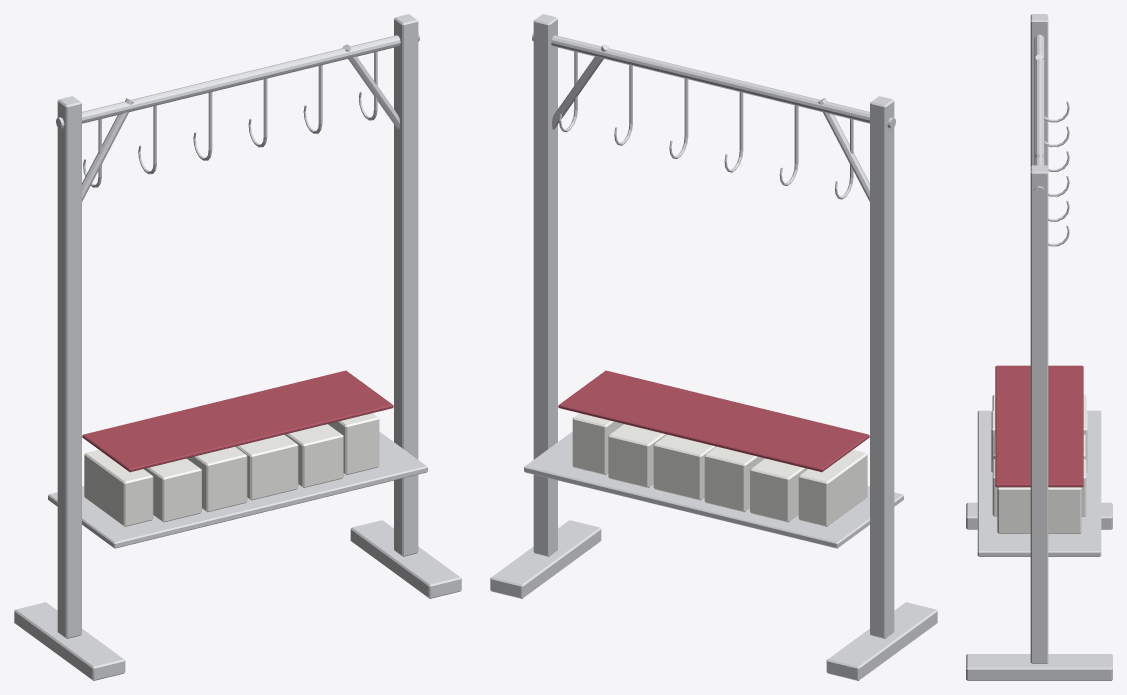
Rendered from butchers-shop-and-deli-counter-hook-rail-frame-71e555e5__34453.glb.
The picture shows the model from 3 angles, left to right: view 1: azimuth 30°, elevation 25°; view 2: azimuth 150°, elevation 25°; view 3: azimuth 270°, elevation 25°; orthographic projection. The views are drawn at different scales.
Visible parts, largest first — view 1: hook-rail-frame; view 2: hook-rail-frame; view 3: hook-rail-frame.
Part boxes in pixels (box(x1,y1,x2,y2)): hook-rail-frame: box(14, 14, 461, 680); hook-rail-frame: box(490, 14, 937, 680); hook-rail-frame: box(966, 14, 1112, 680).
Bounding box in the file's own units: 1.34 × 1.9 × 0.5001.
